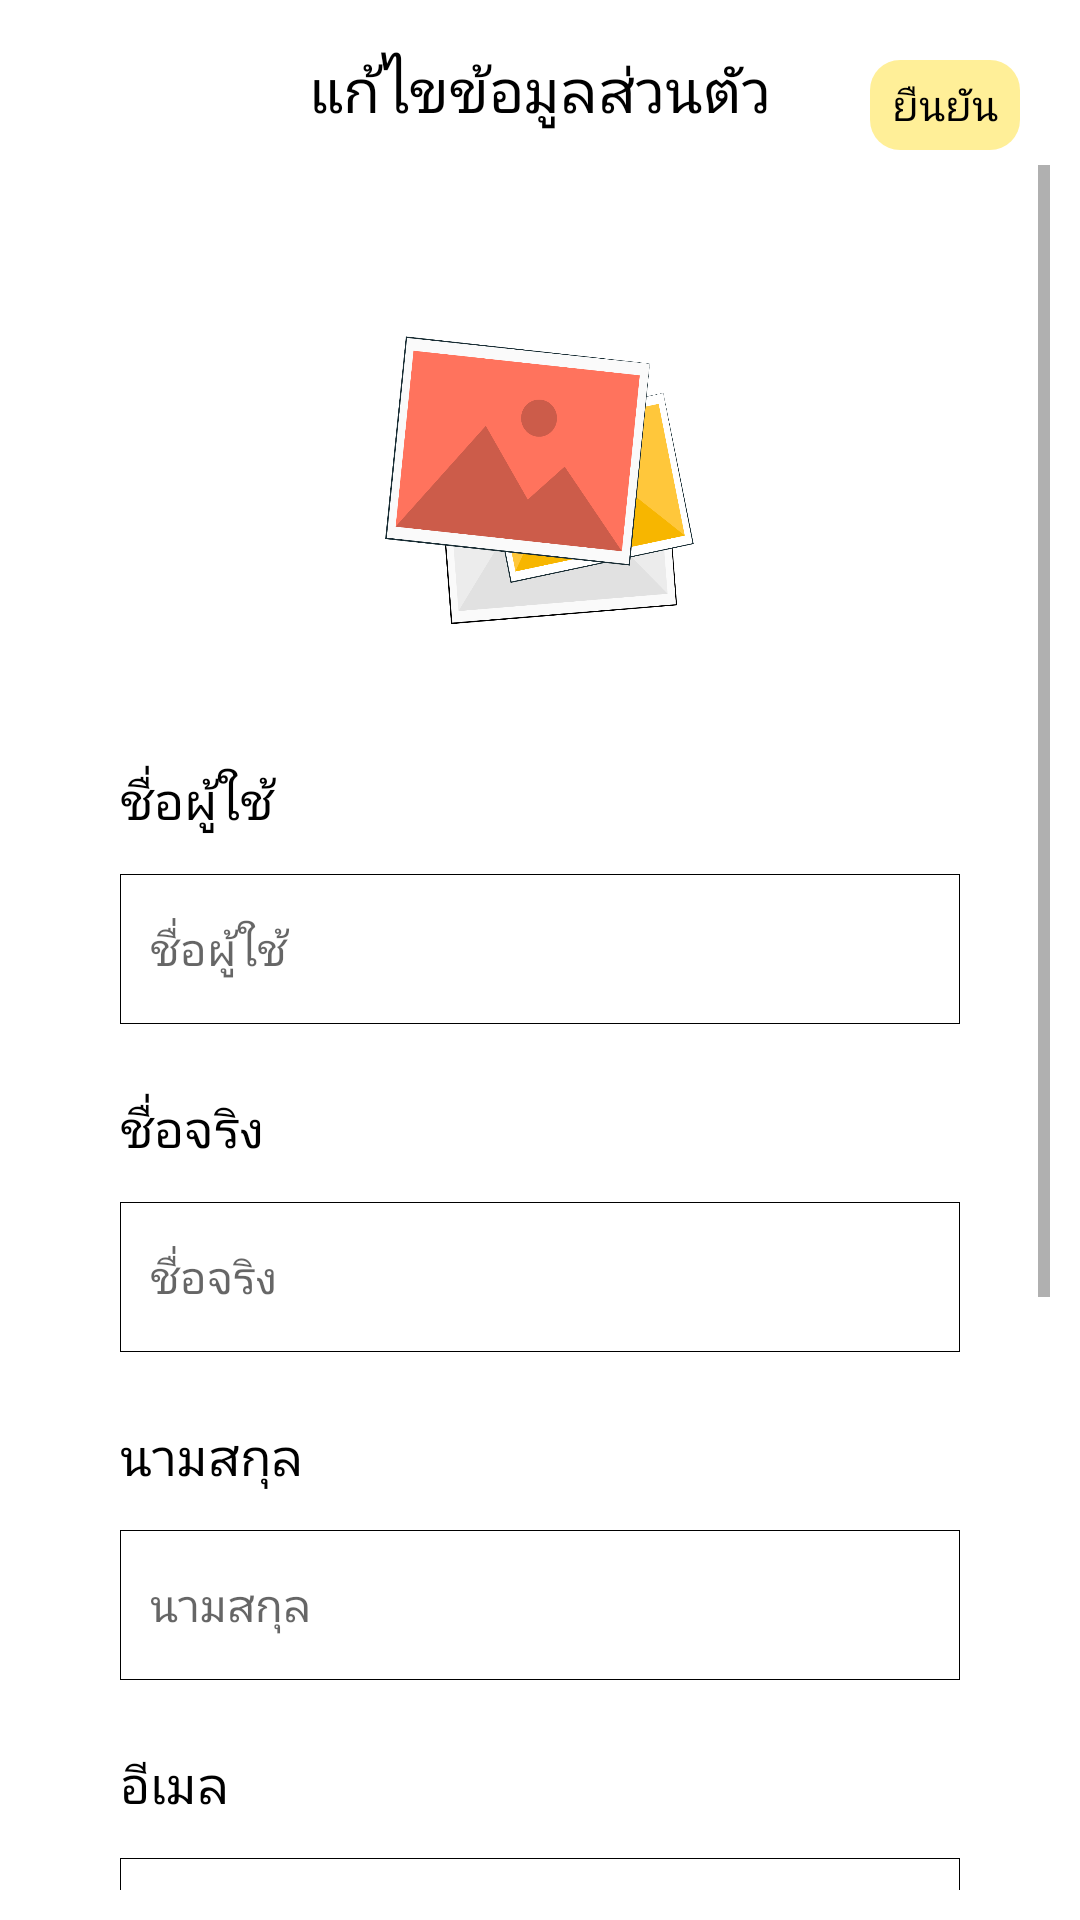

Named icons in this screenshot (1080 × 1920) and their centers, [x,y]:
get pic: [539,480]
